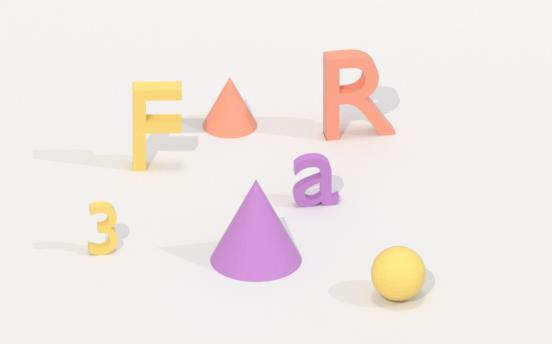3: (85, 199, 122, 260)
F: (131, 80, 183, 172)
R-hoa: (323, 48, 395, 145)
a: (289, 151, 344, 208)
cau: (369, 245, 430, 303)
non: (200, 177, 317, 292), (202, 78, 265, 142)
